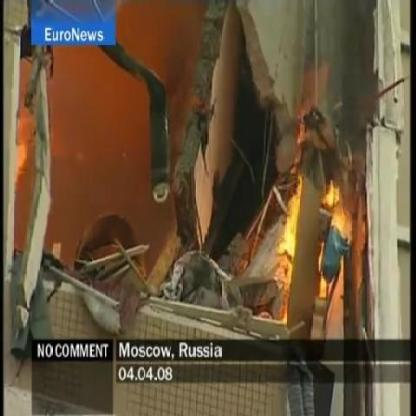fire: (278, 178, 348, 292)
